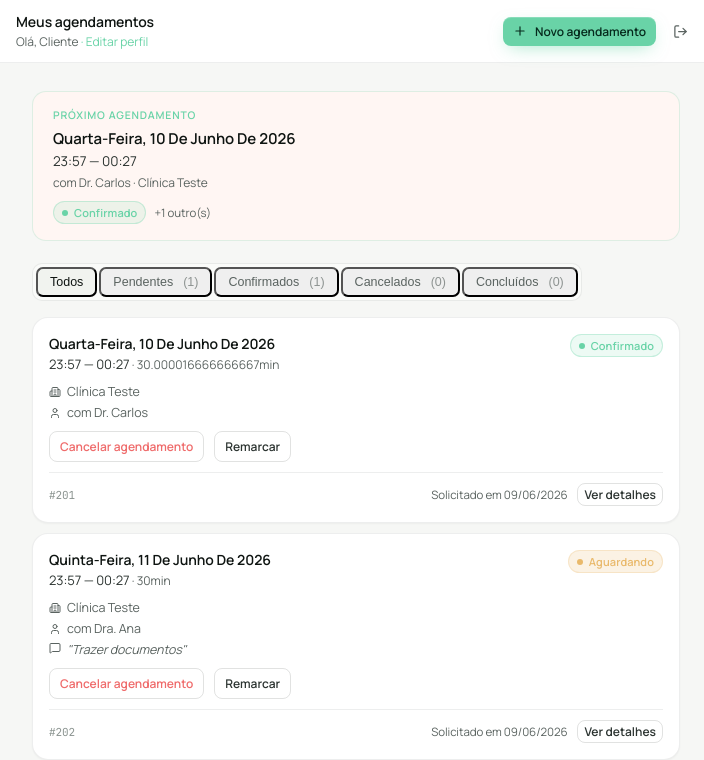
MyAppointmentsPage — filtros › filtra para exibir apenas agendamentos Confirmados
The width and height of the screenshot is (704, 760).
What coordinates should you click on to do the following:
click the button "Confirmados (1)"
I would click on:
 (276, 282)
Its box is [214, 267, 338, 297].
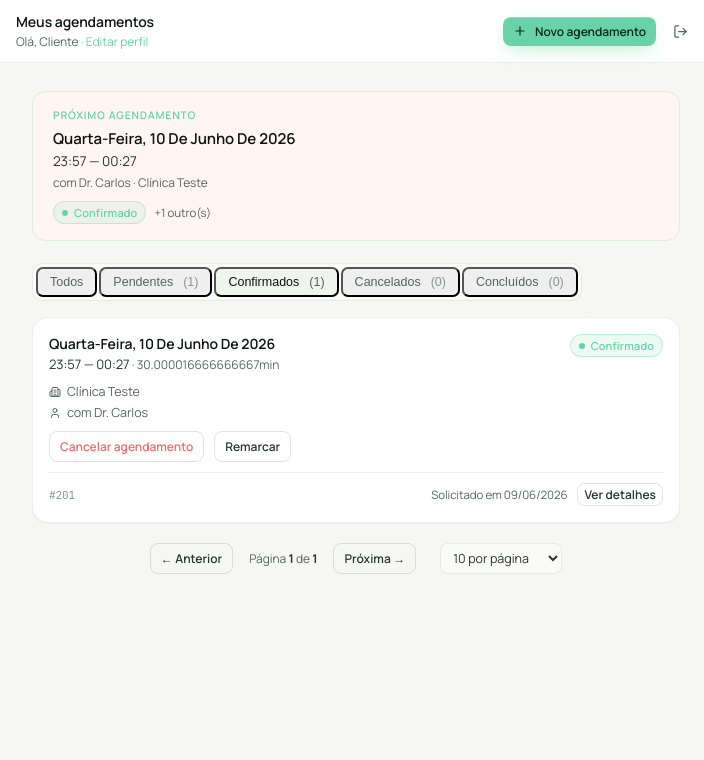
expect the text "Dr. Carlos" is shown: met, box [79, 174, 131, 191]
expect the text "Dra. Ana" is gone: met
